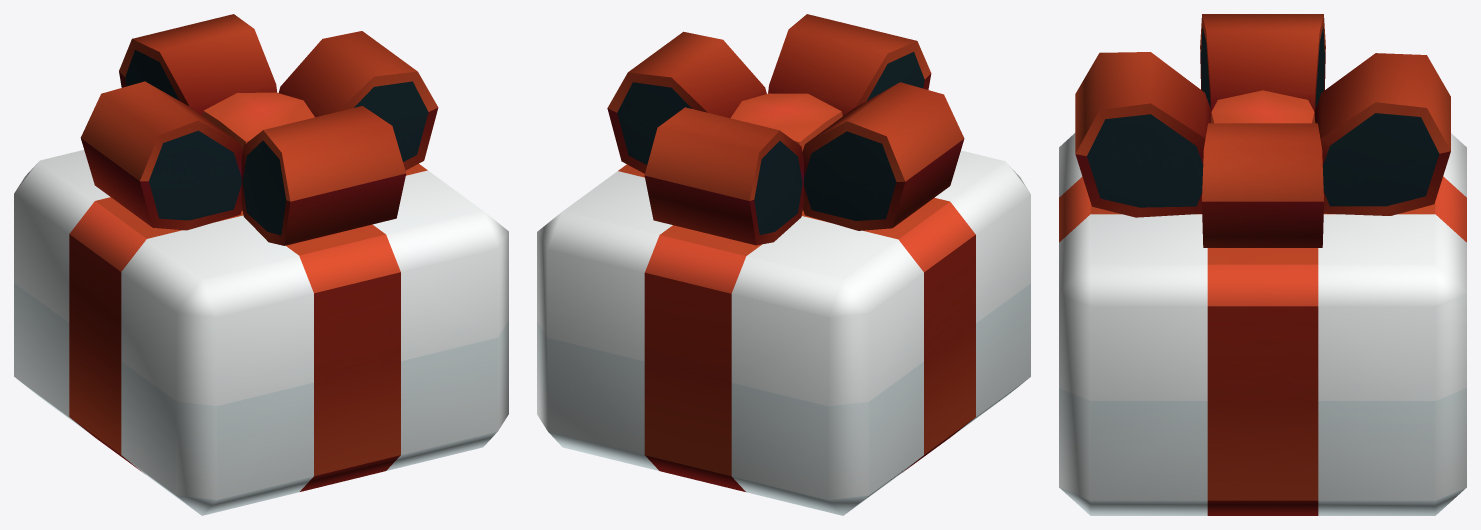
The model's file is presi_square_5_white.fbx.
3 views of the same model, side by side, from view 1: azimuth 30°, elevation 25°; view 2: azimuth 150°, elevation 25°; view 3: azimuth 270°, elevation 25° (orthographic). The views are drawn at different scales.
Parts seen in each view (by area): view 1: presi_square_5_white; view 2: presi_square_5_white; view 3: presi_square_5_white.
Part boxes in pixels (<box>): presi_square_5_white: <box>14,14,508,515</box>; presi_square_5_white: <box>537,14,1030,515</box>; presi_square_5_white: <box>1059,14,1466,515</box>.
Size of the model in its own units: 75 by 74 by 75.
Materials: 1 (1 with a texture image).
